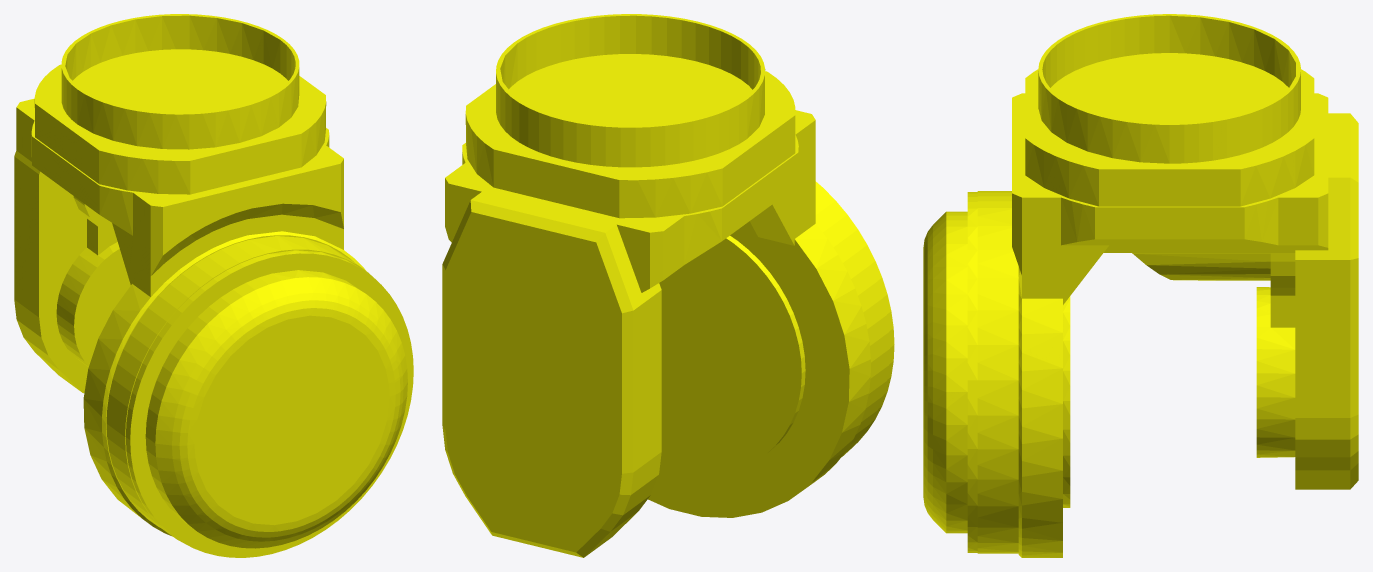
3 renders of one model, left to right at view 1: azimuth 30°, elevation 25°; view 2: azimuth 150°, elevation 25°; view 3: azimuth 270°, elevation 25°, orthographic. The views are drawn at different scales.
Visible parts, largest first — view 1: node; view 2: node; view 3: node.
Boxes of the visible parts, <box> form: node: <box>14,14,413,557</box>; node: <box>442,14,894,557</box>; node: <box>923,14,1358,557</box>.
Size of the model in its own units: 226 by 316 by 265.
